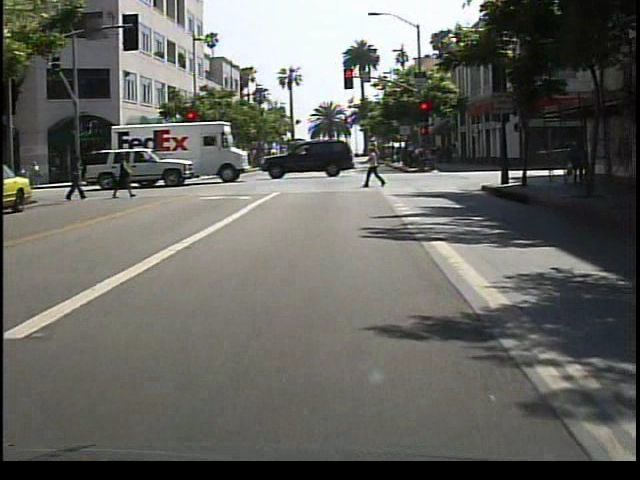person: (565, 136, 593, 194), (111, 152, 136, 202), (365, 145, 389, 191), (66, 157, 87, 206)
